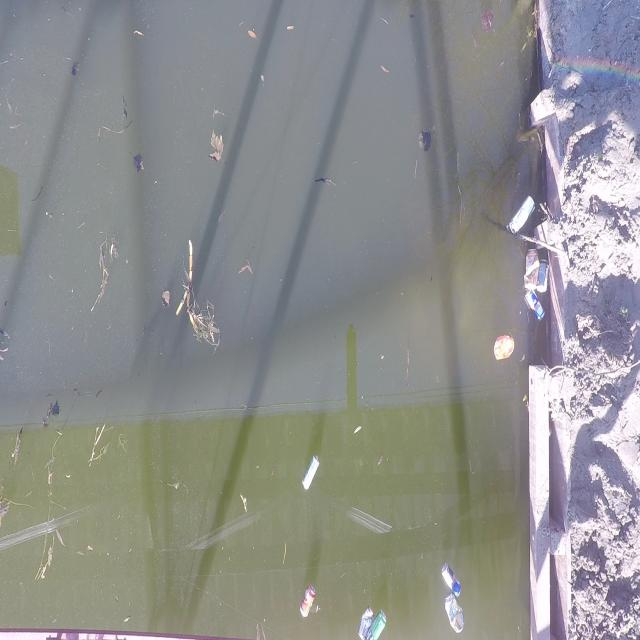Non plastique: (507, 193, 537, 238), (441, 593, 467, 638), (364, 602, 394, 640), (352, 599, 379, 640), (298, 452, 323, 495), (490, 329, 516, 364), (441, 561, 464, 600), (297, 579, 319, 618), (523, 245, 538, 297), (523, 290, 545, 324), (537, 258, 551, 295)
